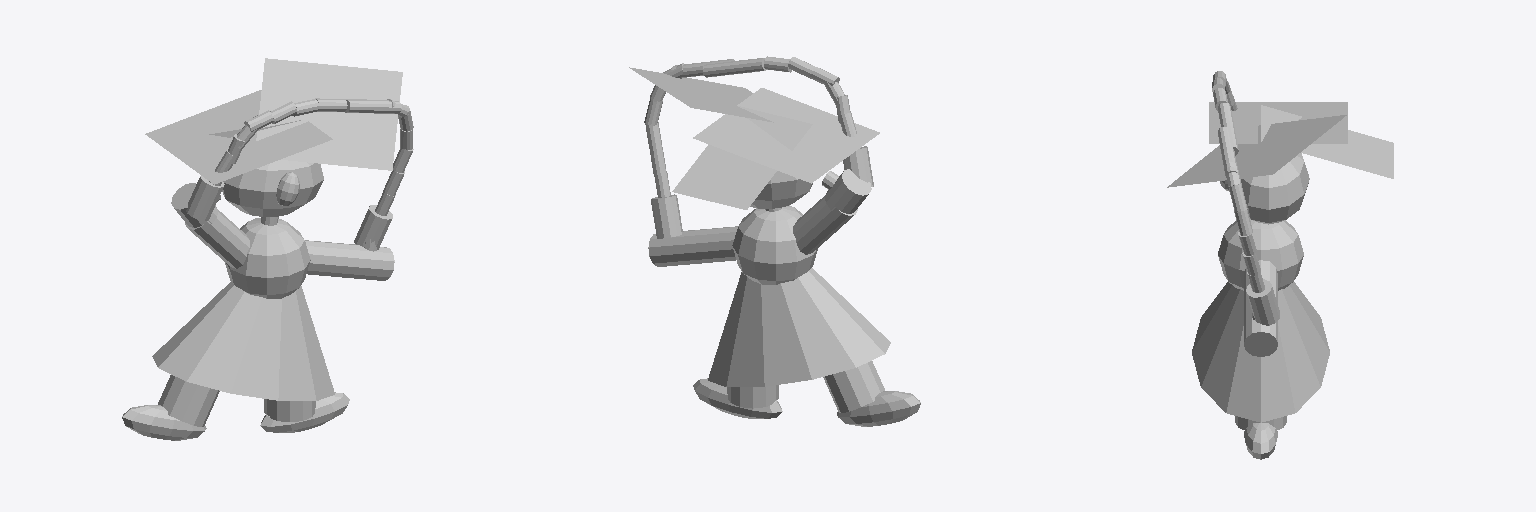
Rendered from Playtime Better Version.obj.
The picture shows the model from 3 angles: view 1: azimuth 30°, elevation 25°; view 2: azimuth 150°, elevation 25°; view 3: azimuth 270°, elevation 25°; orthographic projection.
Parts seen in each view (by area): view 1: 004_cone, 015_cube, 014_cube, 005_sphere, 017_sphere, 002_cylinder, 007_cylinder, 000_sphere, 006_cylinder, 001_sphere, 020_tube, 003_cylinder (+5 smaller); view 2: 004_cone, 014_cube, 016_cube, 005_sphere, 015_cube, 002_cylinder, 007_cylinder, 000_sphere, 006_cylinder, 001_sphere, 017_sphere, 008_cylinder (+5 smaller); view 3: 004_cone, 015_cube, 005_sphere, 017_sphere, 014_cube, 016_cube, 010_cylinder, 018_tube, 001_sphere, 007_cylinder.
Boxes of the visible parts, x1=… form: 004_cone: x1=152, y1=282, x2=334, y2=400; 015_cube: x1=256, y1=58, x2=402, y2=170; 014_cube: x1=145, y1=90, x2=332, y2=184; 005_sphere: x1=225, y1=218, x2=310, y2=298; 017_sphere: x1=222, y1=160, x2=323, y2=216; 002_cylinder: x1=158, y1=375, x2=219, y2=426; 007_cylinder: x1=305, y1=240, x2=365, y2=278; 000_sphere: x1=122, y1=405, x2=206, y2=440; 006_cylinder: x1=185, y1=210, x2=249, y2=268; 001_sphere: x1=260, y1=392, x2=349, y2=432; 020_tube: x1=186, y1=176, x2=224, y2=220; 003_cylinder: x1=264, y1=399, x2=315, y2=421; 004_cone: x1=708, y1=268, x2=890, y2=386; 014_cube: x1=693, y1=88, x2=879, y2=183; 016_cube: x1=672, y1=106, x2=812, y2=209; 005_sphere: x1=732, y1=205, x2=817, y2=284; 015_cube: x1=629, y1=67, x2=773, y2=122; 002_cylinder: x1=823, y1=361, x2=884, y2=412; 007_cylinder: x1=677, y1=226, x2=737, y2=264; 000_sphere: x1=837, y1=391, x2=920, y2=426; 006_cylinder: x1=793, y1=196, x2=857, y2=254; 001_sphere: x1=693, y1=378, x2=782, y2=418; 017_sphere: x1=750, y1=171, x2=812, y2=208; 008_cylinder: x1=825, y1=169, x2=871, y2=213; 004_cone: x1=1192, y1=282, x2=1329, y2=422; 015_cube: x1=1167, y1=115, x2=1346, y2=187; 005_sphere: x1=1218, y1=219, x2=1303, y2=290; 017_sphere: x1=1241, y1=153, x2=1309, y2=224; 014_cube: x1=1209, y1=102, x2=1347, y2=143; 016_cube: x1=1261, y1=105, x2=1393, y2=178; 010_cylinder: x1=1244, y1=311, x2=1277, y2=356; 018_tube: x1=1246, y1=279, x2=1279, y2=325; 001_sphere: x1=1244, y1=423, x2=1277, y2=459; 007_cylinder: x1=1244, y1=260, x2=1277, y2=318.
Bounding box in the file's own units: 239 × 278 × 164.